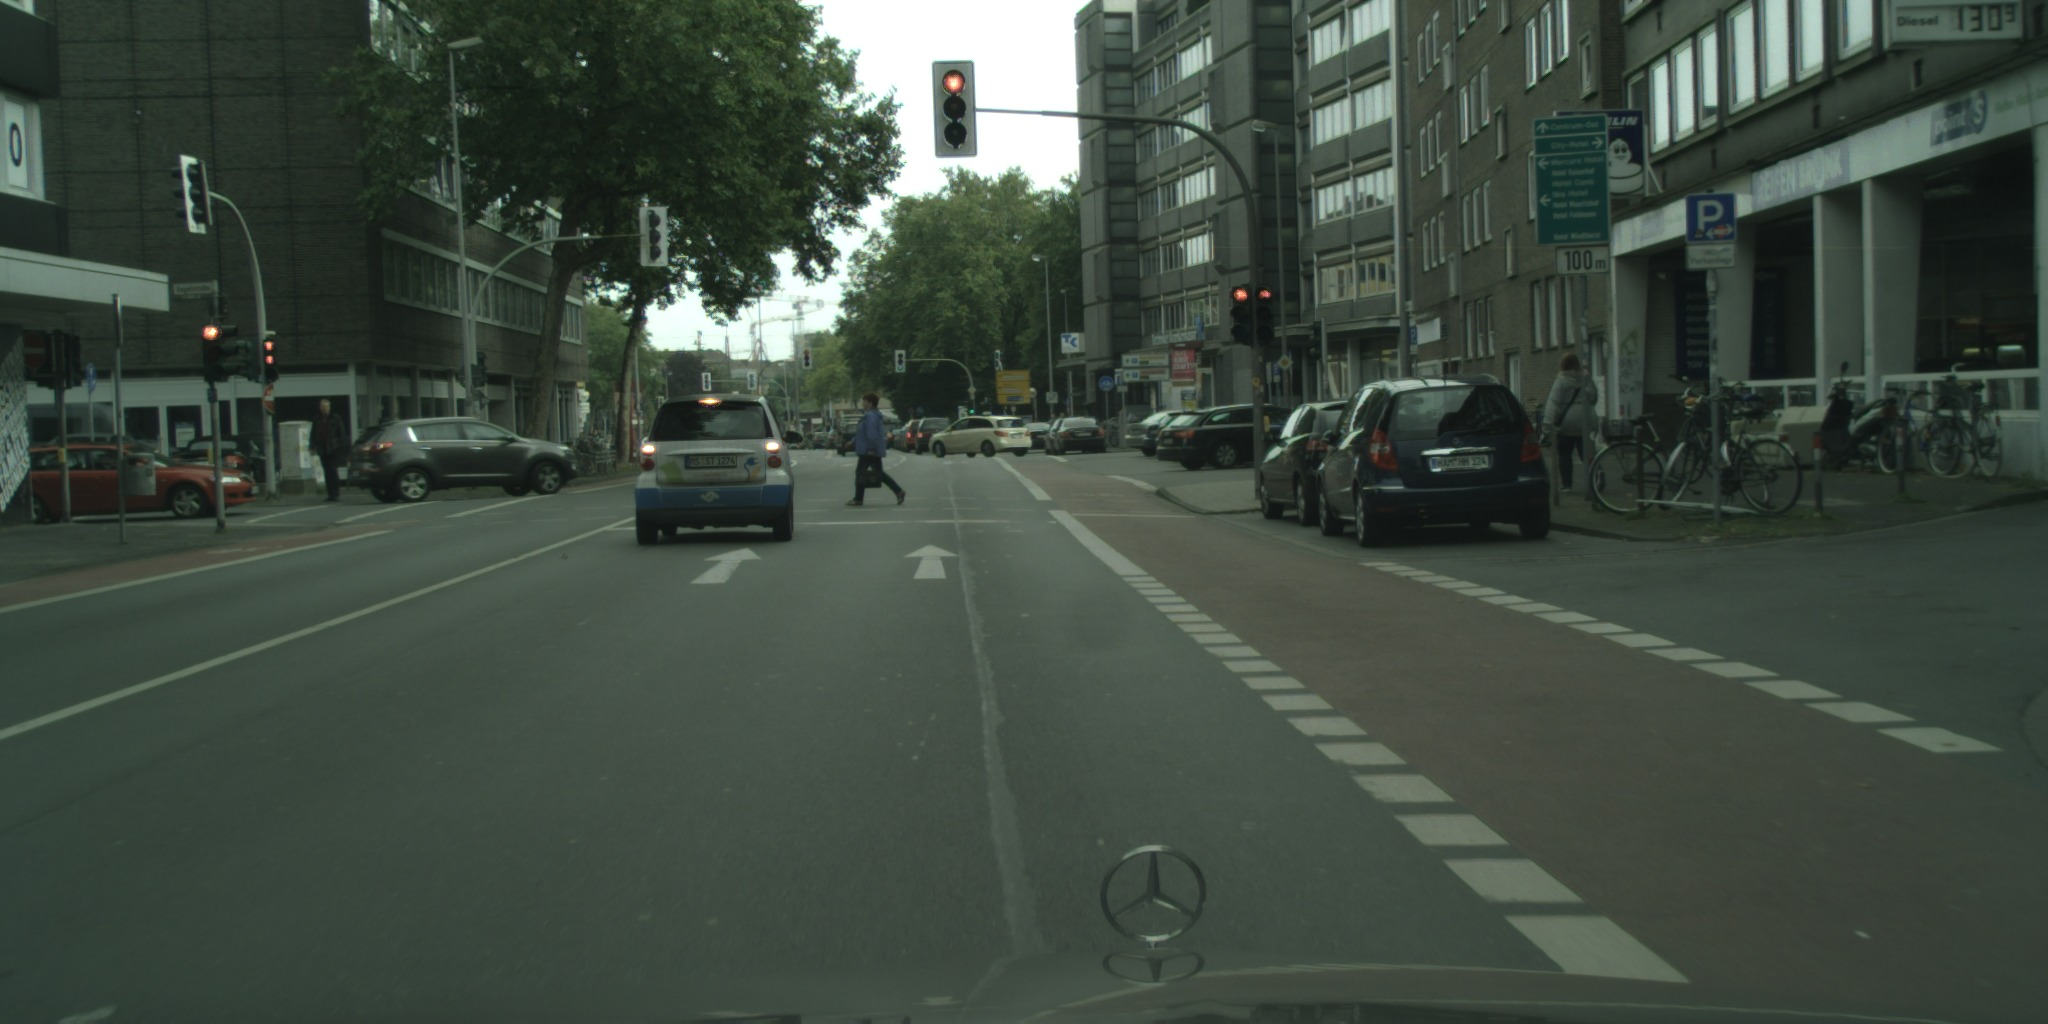bicycle: (1587, 372, 1723, 517), (1658, 389, 1805, 515), (1926, 360, 2005, 483), (1876, 386, 1962, 475), (1711, 374, 1775, 454)
car: (1315, 374, 1553, 550), (634, 393, 804, 546), (346, 416, 585, 505), (25, 443, 260, 525), (1257, 398, 1362, 525), (1155, 403, 1297, 473), (42, 434, 168, 481), (170, 435, 281, 488), (925, 411, 1033, 459), (1122, 409, 1207, 458), (1143, 409, 1218, 459), (1044, 417, 1109, 455), (914, 416, 954, 455), (833, 418, 865, 457), (1016, 421, 1055, 450), (900, 418, 934, 451), (874, 415, 906, 448), (882, 429, 905, 450)
motorcycle: (1816, 355, 1903, 474)
person: (1542, 353, 1605, 496), (843, 392, 907, 508), (306, 397, 348, 506), (1118, 405, 1142, 433), (1048, 412, 1057, 430), (1059, 410, 1064, 427)
